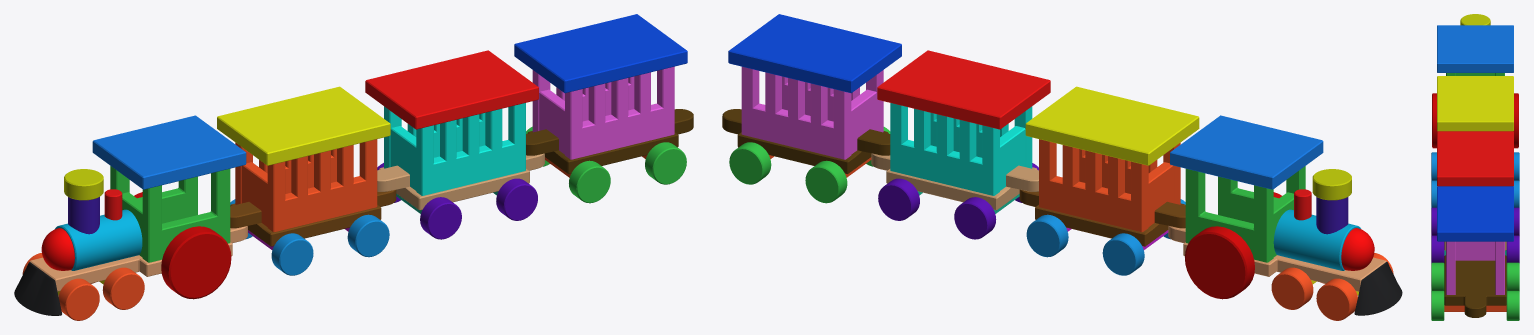
The model's file is Train.fbx.
3 renders of one model, left to right at view 1: azimuth 30°, elevation 25°; view 2: azimuth 150°, elevation 25°; view 3: azimuth 270°, elevation 25°, orthographic. The views are drawn at different scales.
Parts seen in each view (by area): view 1: Cube.009, Cube.015, Cube.021, Cube.019, Cube.013, Cube.007, Cube.005, Cube.001, Cylinder.005, Cylinder, Cube.018, Cube.012 (+19 smaller); view 2: Cube.009, Cube.015, Cube.021, Cube.019, Cube.013, Cube.007, Cube.005, Cube.001, Cylinder.005, Cylinder, Cube.018, Cube.012 (+19 smaller); view 3: Cube.009, Cube.015, Cube.021, Cube.005, Cube.018, Cube.019, Cylinder.013, Cube.022, Cylinder.012, Cylinder.011, Cylinder.005, Cylinder.007 (+5 smaller).
Boxes of the visible parts, x1=… form: Cube.009: x1=217, y1=86, x2=390, y2=165; Cube.015: x1=365, y1=50, x2=538, y2=129; Cube.021: x1=514, y1=14, x2=687, y2=93; Cube.019: x1=532, y1=66, x2=674, y2=159; Cube.013: x1=384, y1=103, x2=525, y2=195; Cube.007: x1=235, y1=139, x2=377, y2=232; Cube.005: x1=92, y1=115, x2=246, y2=189; Cube.001: x1=110, y1=166, x2=230, y2=262; Cylinder.005: x1=134, y1=192, x2=231, y2=299; Cylinder: x1=55, y1=209, x2=142, y2=270; Cube.018: x1=526, y1=109, x2=693, y2=173; Cube.012: x1=377, y1=153, x2=544, y2=210; Cube.009: x1=1025, y1=86, x2=1199, y2=165; Cube.015: x1=877, y1=50, x2=1050, y2=129; Cube.021: x1=728, y1=14, x2=901, y2=93; Cube.019: x1=741, y1=66, x2=883, y2=159; Cube.013: x1=890, y1=103, x2=1032, y2=195; Cube.007: x1=1039, y1=139, x2=1180, y2=232; Cube.005: x1=1170, y1=115, x2=1323, y2=189; Cube.001: x1=1185, y1=166, x2=1305, y2=262; Cylinder.005: x1=1185, y1=192, x2=1281, y2=299; Cylinder: x1=1273, y1=209, x2=1360, y2=270; Cube.018: x1=722, y1=109, x2=890, y2=173; Cube.012: x1=871, y1=153, x2=1038, y2=210; Cube.009: x1=1437, y1=76, x2=1513, y2=131; Cube.015: x1=1437, y1=131, x2=1513, y2=186; Cube.021: x1=1437, y1=186, x2=1513, y2=241; Cube.005: x1=1437, y1=25, x2=1513, y2=72; Cube.018: x1=1444, y1=255, x2=1506, y2=317; Cube.019: x1=1446, y1=241, x2=1504, y2=294; Cylinder.013: x1=1431, y1=291, x2=1519, y2=320; Cube.022: x1=1455, y1=241, x2=1495, y2=260; Cylinder.012: x1=1431, y1=262, x2=1519, y2=290; Cylinder.011: x1=1431, y1=235, x2=1519, y2=262; Cylinder.005: x1=1432, y1=93, x2=1518, y2=148; Cylinder.007: x1=1431, y1=152, x2=1519, y2=180.
Bounding box in the file's own units: 1392 × 263 × 209.
Materials: 4 (4 with a texture image).
